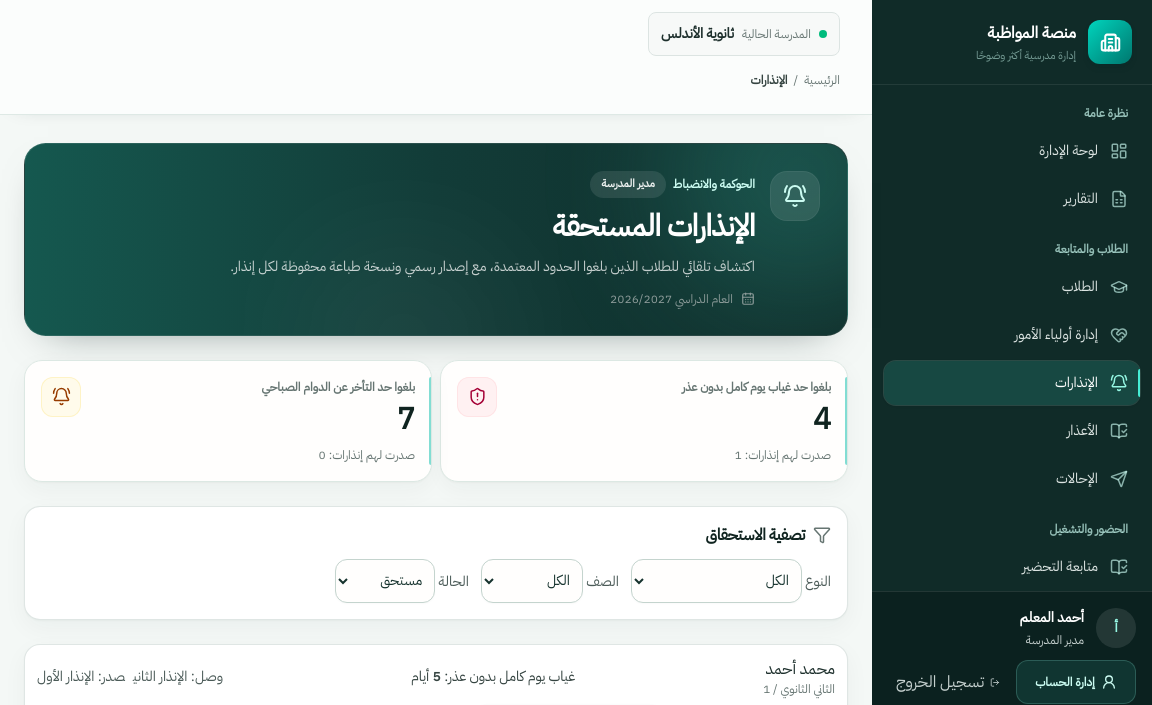
Scenario: warnings dashboard (Phase 11) › filters by type and empty state message
Select "التأخر عن الدوام الصباحي" in the dropdown with test id "type-filter" at (716,580), box x1=631 y1=558 x2=802 y2=602
(page scrolled)
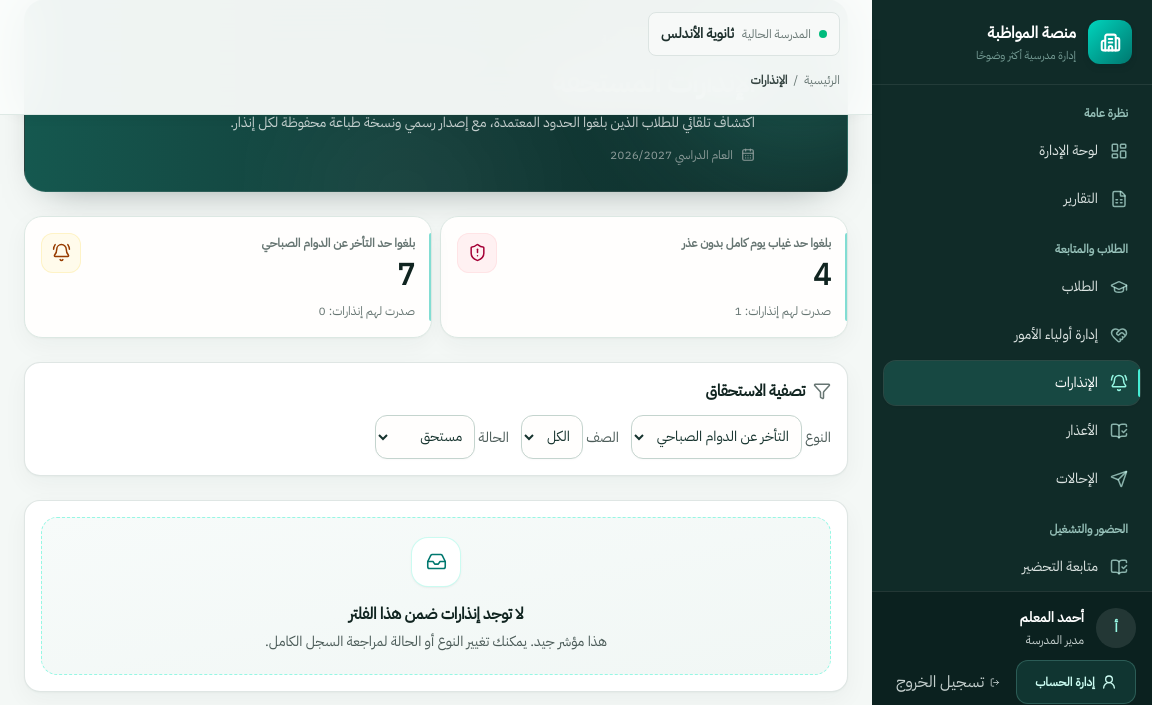
Expected: the element with test id "no-due-students" is shown, x1=41 y1=516 x2=831 y2=674
